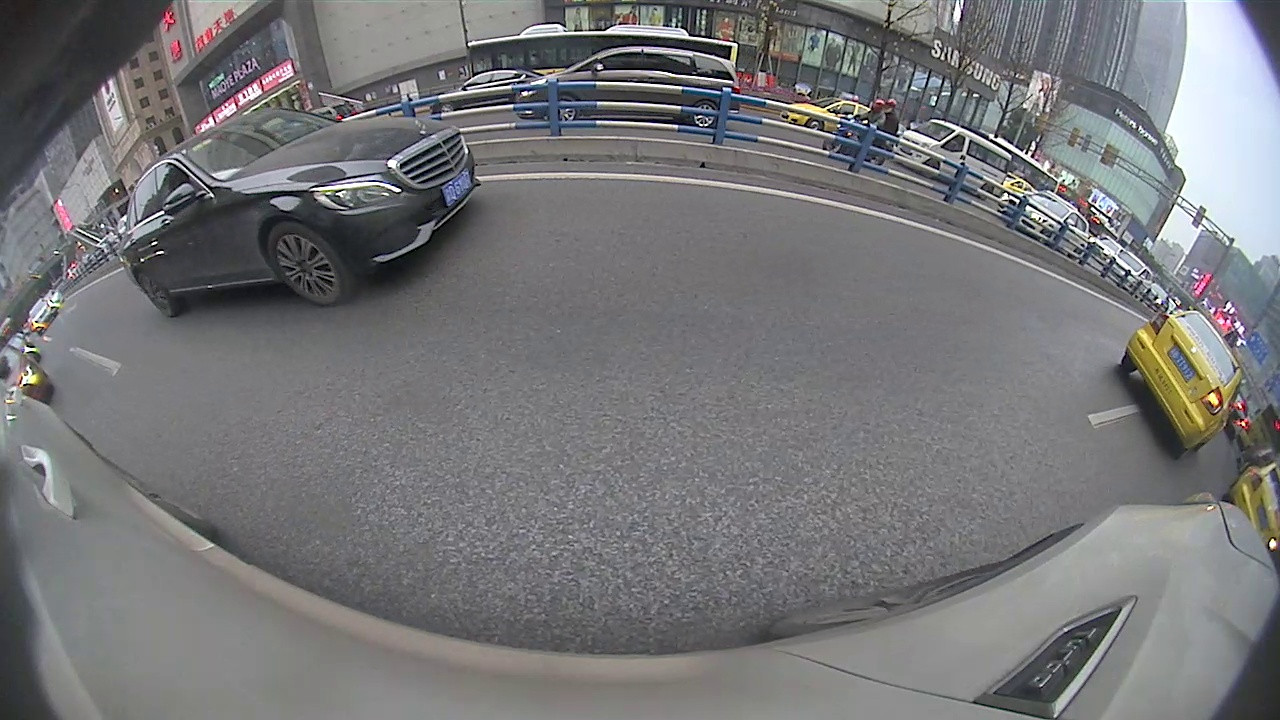bus: (464, 22, 739, 84)
car: (115, 100, 484, 319), (1117, 307, 1247, 461), (510, 46, 744, 131), (892, 117, 1014, 202)
front: (266, 220, 349, 306), (549, 96, 581, 124)
rear: (136, 272, 177, 318), (688, 102, 718, 132)
rider: (818, 97, 906, 169)
